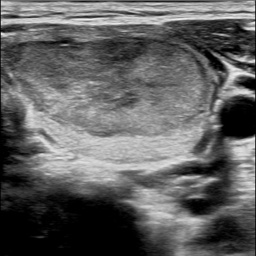mass: (13, 35, 212, 137)
